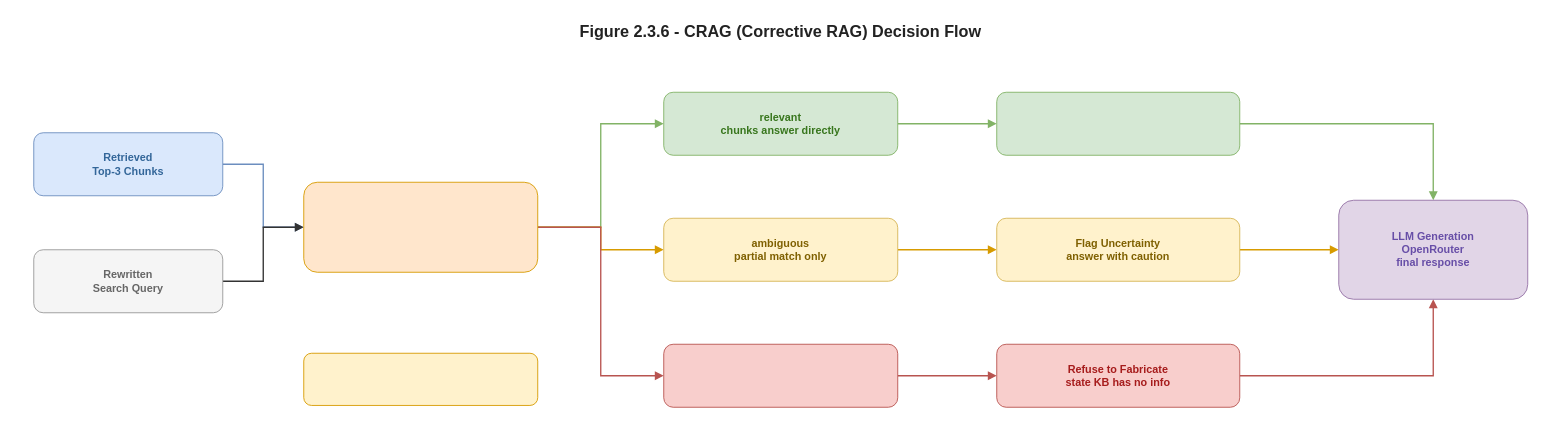
This 1561x423 diagram has some shape labels left out. Here are the shapes that lost their labels. From the top down, the centre of each, then its label:
the point at 1118,123: Normal Pipeline answer from context
the point at 420,226: CRAG Classifier INTERNAL_LLM_MODEL temp=0, max_tokens=16
the point at 420,378: Fallback return 'relevant' if classifier fails
the point at 780,375: no_context KB lacks information
